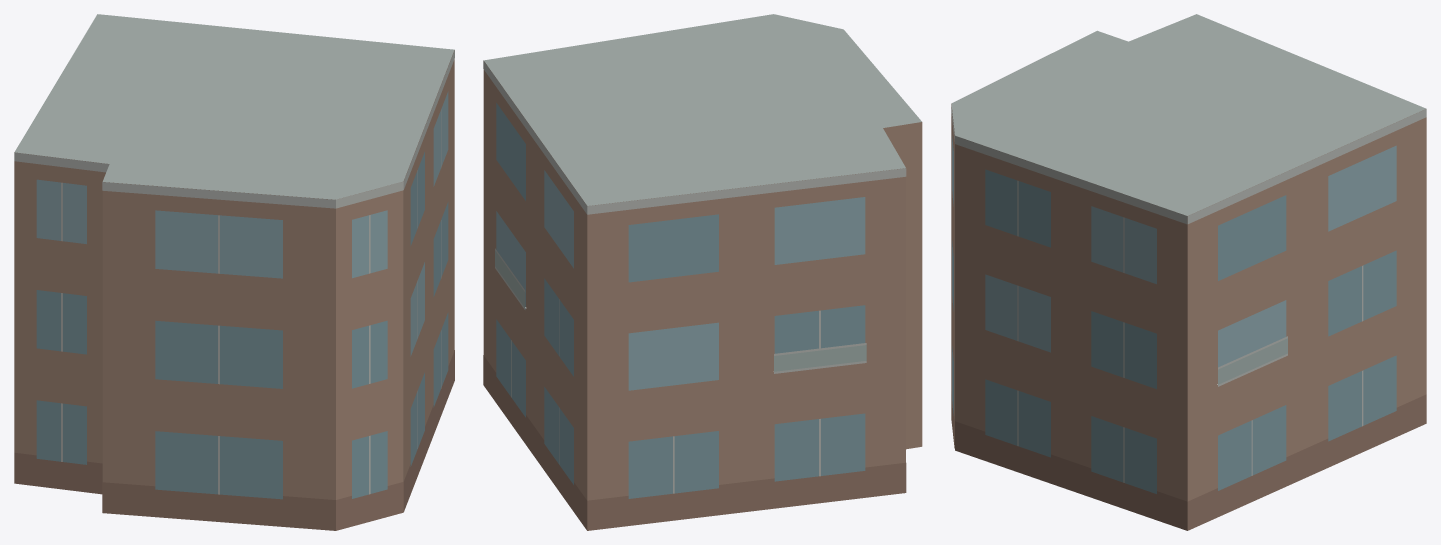
Rendered from survey-upis-32671091.glb.
3 renders of one model, left to right at view 1: azimuth 30°, elevation 25°; view 2: azimuth 150°, elevation 25°; view 3: azimuth 270°, elevation 25°, orthographic. The views are drawn at different scales.
Visible parts, largest first — view 1: survey-upis-32671091.tmp; view 2: survey-upis-32671091.tmp; view 3: survey-upis-32671091.tmp.
Part boxes in pixels (x1=…): survey-upis-32671091.tmp: x1=14, y1=14, x2=454, y2=530; survey-upis-32671091.tmp: x1=483, y1=14, x2=922, y2=530; survey-upis-32671091.tmp: x1=951, y1=14, x2=1426, y2=530.
Size of the model in its own units: 12.53 by 9.1 by 12.46.
